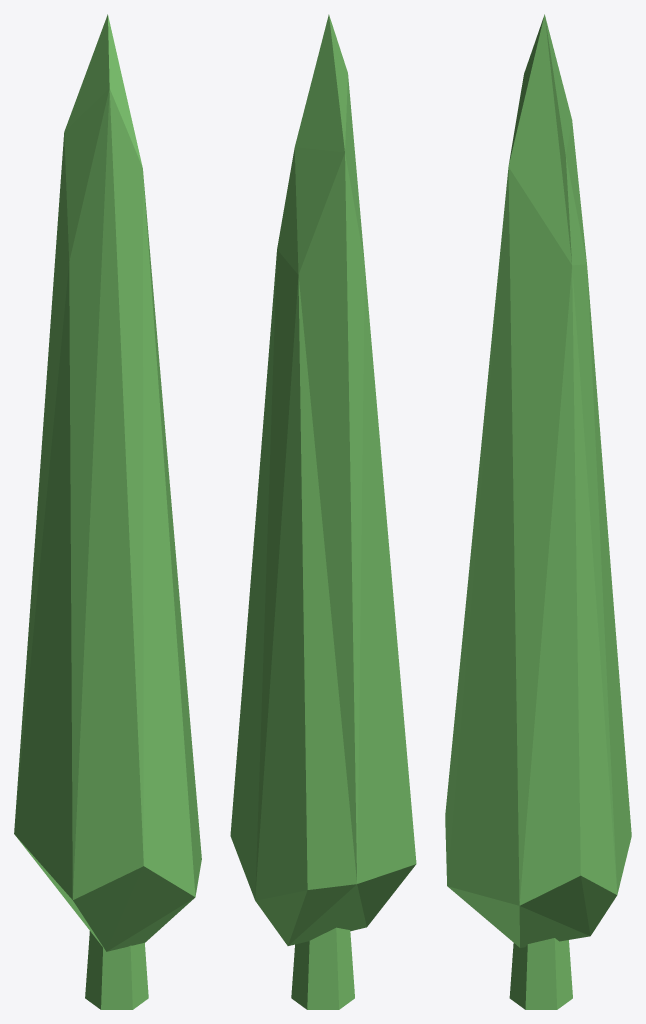
Rendered from roman cypress2.fbx.
3 renders of one model, left to right at view 1: azimuth 30°, elevation 25°; view 2: azimuth 150°, elevation 25°; view 3: azimuth 270°, elevation 25°, orthographic.
Visible parts, largest first — view 1: Roman Cypress.001; view 2: Roman Cypress.001; view 3: Roman Cypress.001.
Part boxes in pixels (x1,y1,x2,y2): Roman Cypress.001: (14,14,201,1009); Roman Cypress.001: (230,14,416,1009); Roman Cypress.001: (445,14,631,1009).
Size of the model in its own units: 361 by 2382 by 411.
